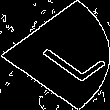L_NW: (14, 26, 96, 84)
